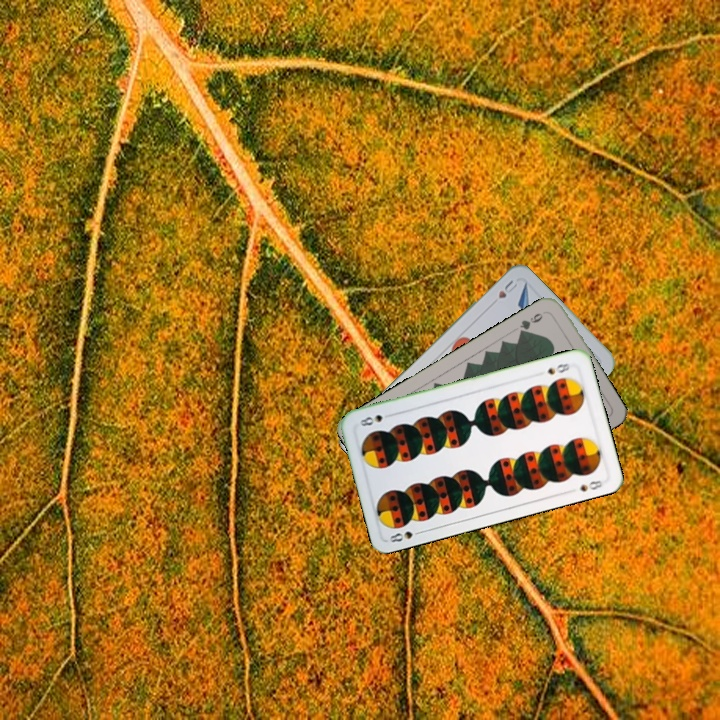G9: (515, 309, 545, 337)
HU: (494, 276, 521, 301)
S8: (385, 527, 426, 545), (543, 359, 572, 377)
